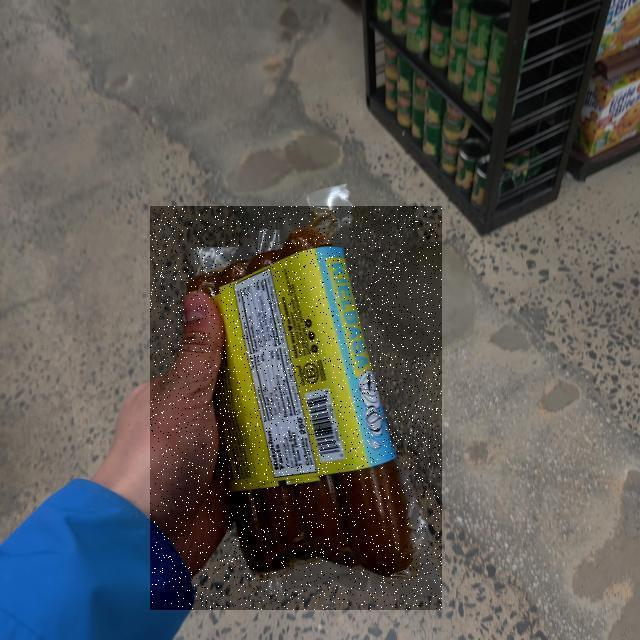Meat: (150, 206, 442, 610)
